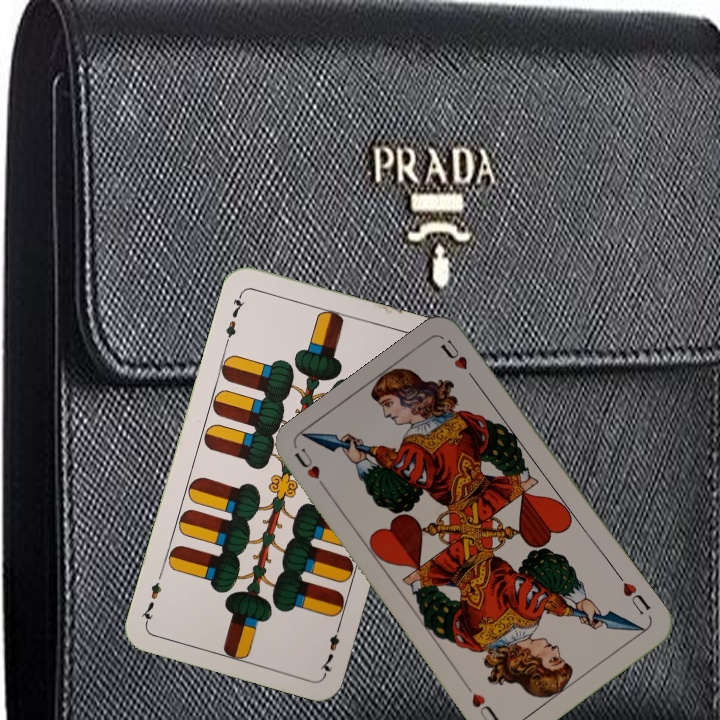E7: (316, 619, 344, 677), (221, 289, 247, 347)
HU: (291, 444, 333, 497), (613, 569, 654, 618)
